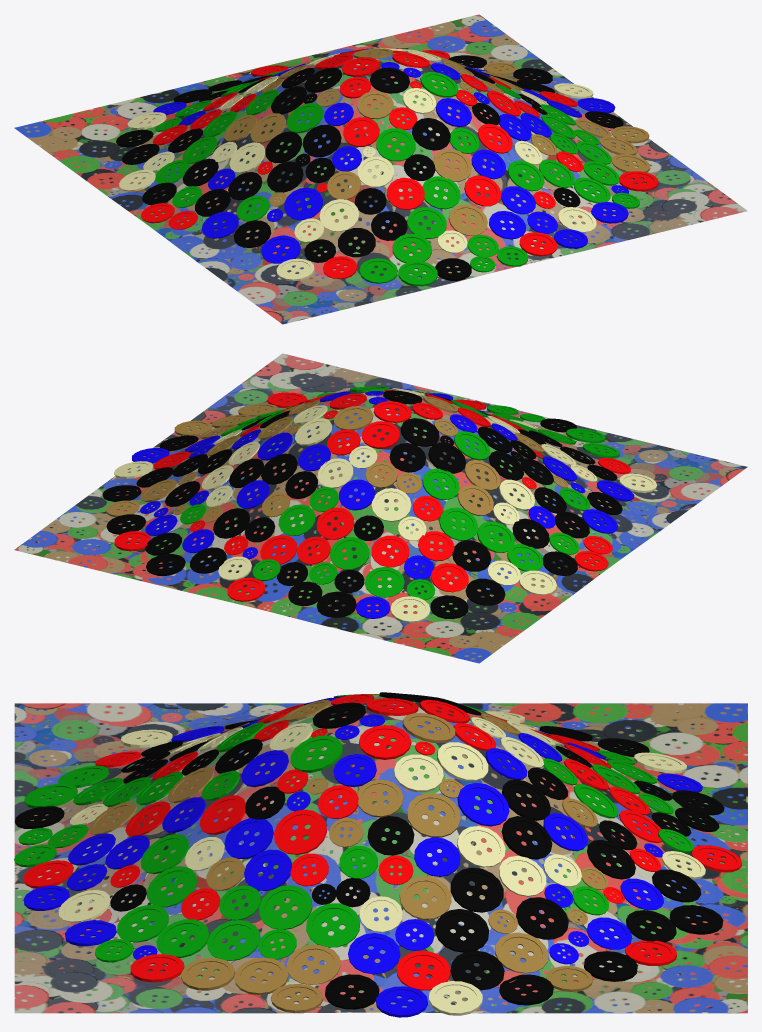
File: pila de botones.fbx
3 views of the same model, one above another, from view 1: azimuth 30°, elevation 25°; view 2: azimuth 150°, elevation 25°; view 3: azimuth 270°, elevation 25° (orthographic). The views are drawn at different scales.
Visible parts, largest first — view 1: Plane.020; view 2: Plane.020; view 3: Plane.020.
Boxes of the visible parts, <box> form: Plane.020: <box>14,14,747,324</box>; Plane.020: <box>14,353,747,663</box>; Plane.020: <box>14,692,747,1017</box>.
Size of the model in its own units: 648 by 141 by 639.
